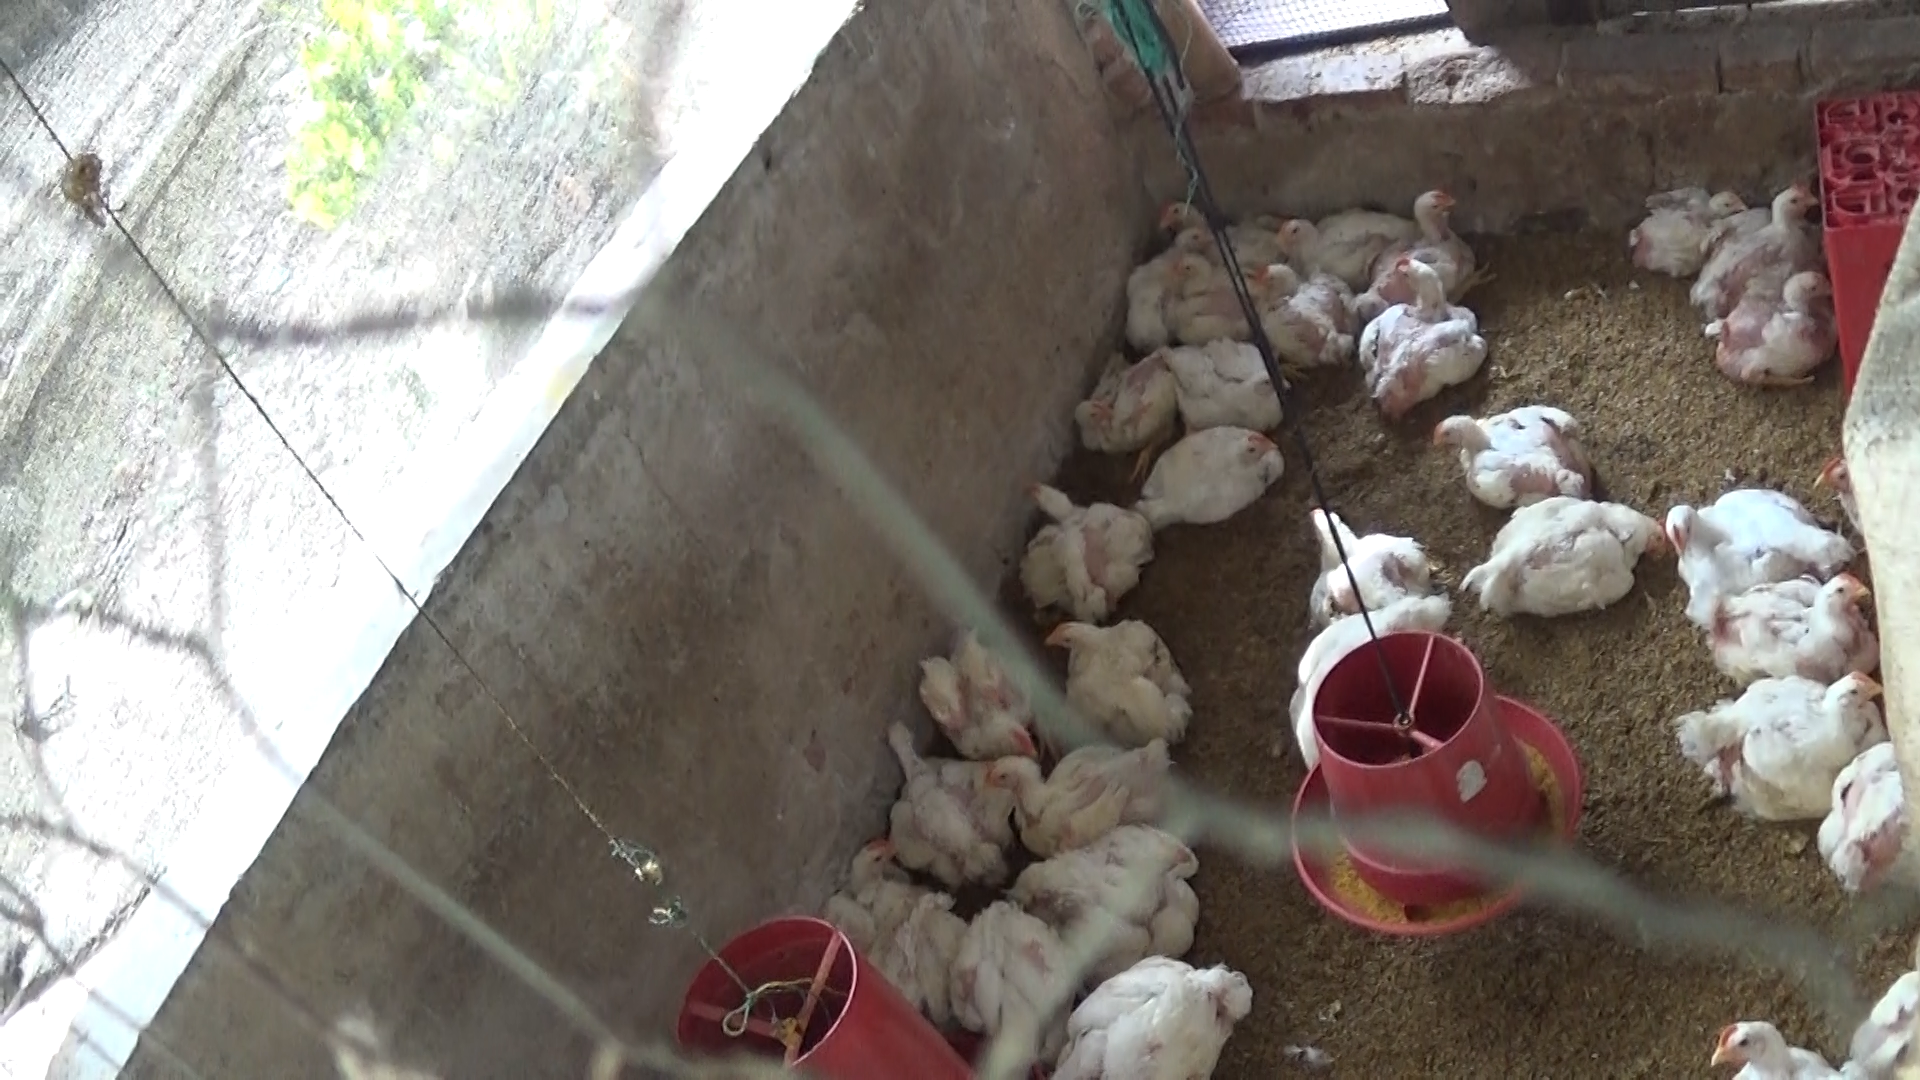Pollos: (1667, 659, 1888, 837), (997, 812, 1200, 982), (1054, 942, 1257, 1080), (976, 744, 1196, 862), (1660, 477, 1855, 608), (1468, 495, 1667, 618), (1036, 603, 1196, 753), (868, 708, 1004, 884), (1685, 567, 1875, 688), (829, 832, 949, 1015), (924, 893, 1060, 1052), (1356, 253, 1487, 417), (1677, 181, 1840, 313), (1698, 268, 1847, 402), (1013, 468, 1149, 612), (922, 617, 1040, 769), (1416, 402, 1585, 508), (1286, 495, 1431, 617), (1133, 413, 1284, 526), (1120, 229, 1253, 342), (1280, 193, 1433, 287), (1374, 185, 1482, 313), (1615, 177, 1749, 274), (1249, 257, 1366, 359), (1164, 336, 1286, 434), (1069, 343, 1168, 456), (1145, 185, 1280, 266), (1162, 252, 1273, 345)
